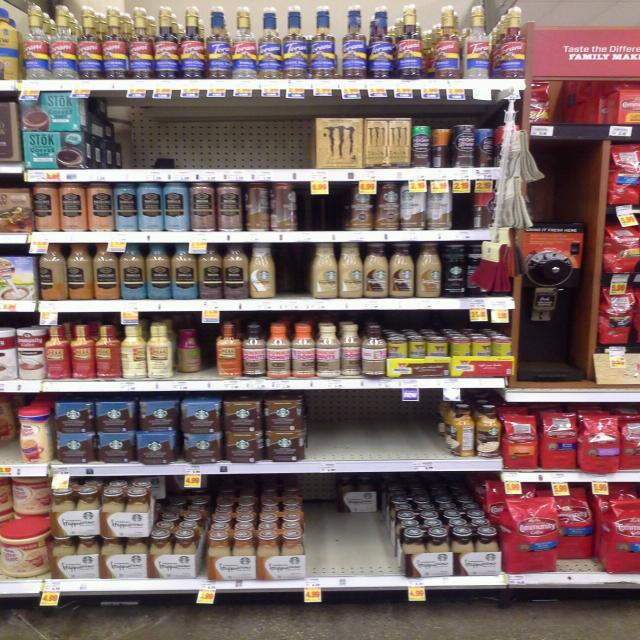void: (86, 98, 312, 168), (312, 406, 447, 458), (316, 520, 392, 572)
